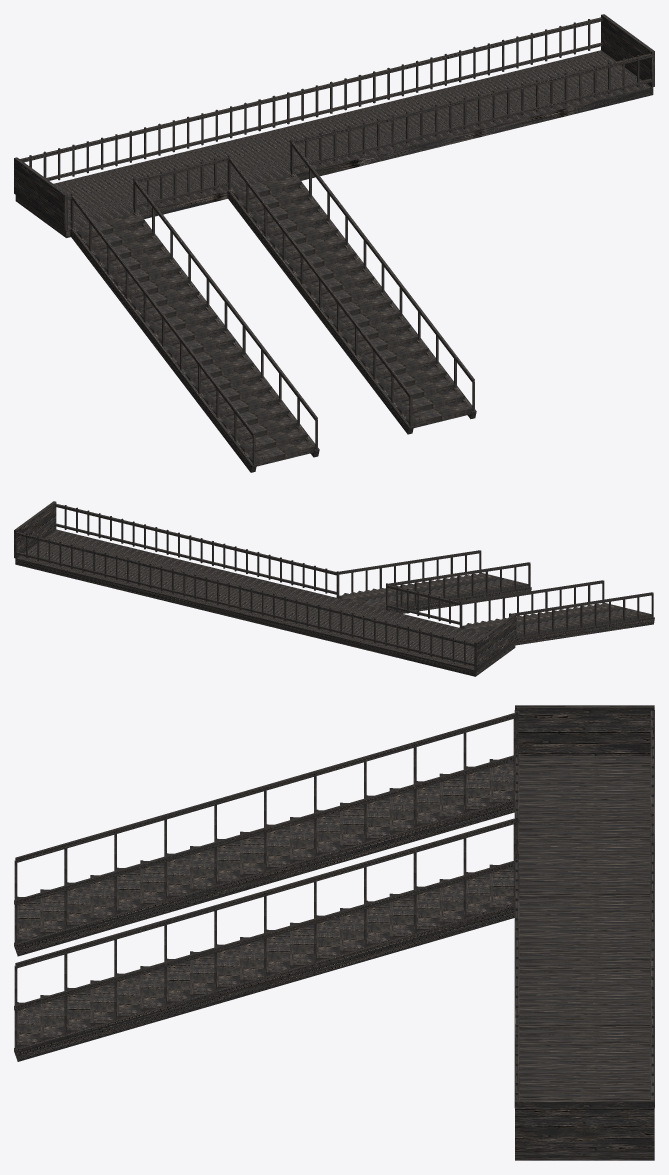
The model's file is canal_gallery.glb.
3 views of the same model, one above another, from view 1: azimuth 30°, elevation 25°; view 2: azimuth 150°, elevation 25°; view 3: azimuth 270°, elevation 25° (orthographic). The views are drawn at different scales.
Visible parts, largest first — view 1: canal_gallery0; view 2: canal_gallery0; view 3: canal_gallery0.
Part boxes in pixels (x1,y1,x2,y2): canal_gallery0: (14, 14, 654, 472); canal_gallery0: (14, 501, 654, 676); canal_gallery0: (14, 705, 654, 1160).
Size of the model in its own units: 18.8 by 4.47 by 12.84.
1 material, 1 textured.
